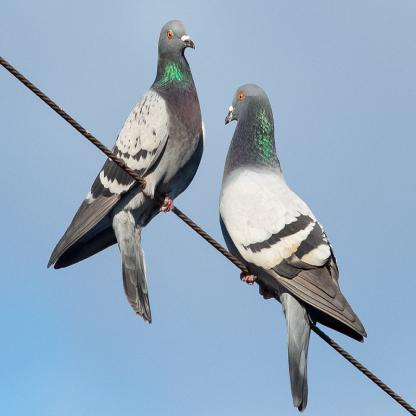Flying Rat: (43, 19, 205, 312), (220, 82, 355, 406)
